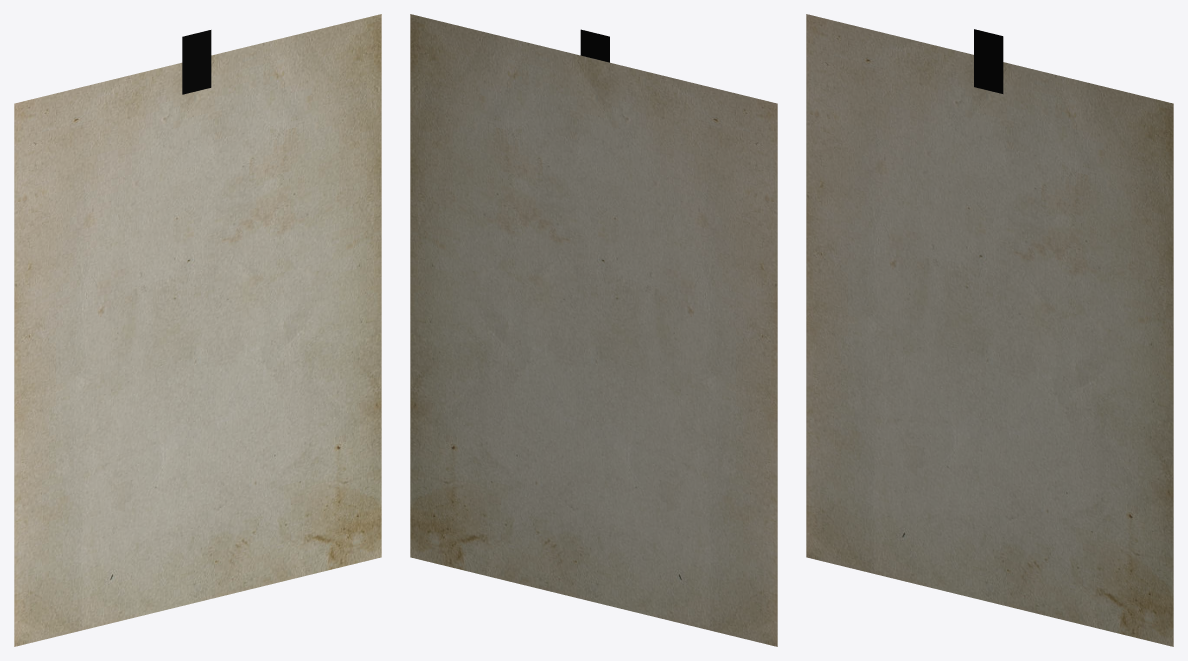
The model's file is paper.glb.
3 renders of one model, left to right at view 1: azimuth 30°, elevation 25°; view 2: azimuth 150°, elevation 25°; view 3: azimuth 330°, elevation 25°, orthographic.
Parts seen in each view (by area): view 1: paper; view 2: paper; view 3: paper.
Part boxes in pixels (x1,y1,x2,y2): paper: (14,14,381,646); paper: (410,14,777,646); paper: (806,14,1173,646).
Size of the model in its own units: 0.21 by 0.3112 by 0.00012.
Materials: 2 (1 with a texture image).
